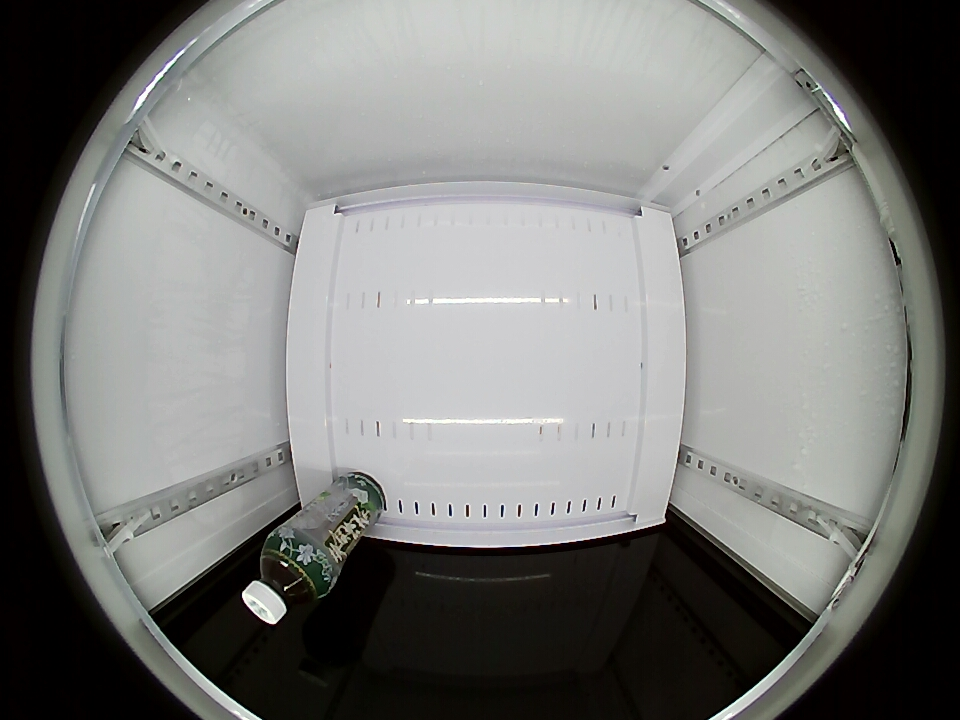moliqingcha: (241, 533, 332, 625)
